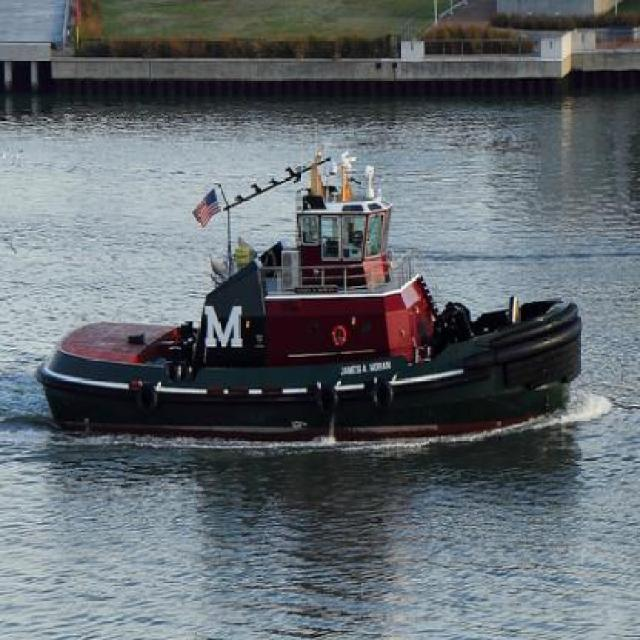ship: (33, 147, 598, 450)
